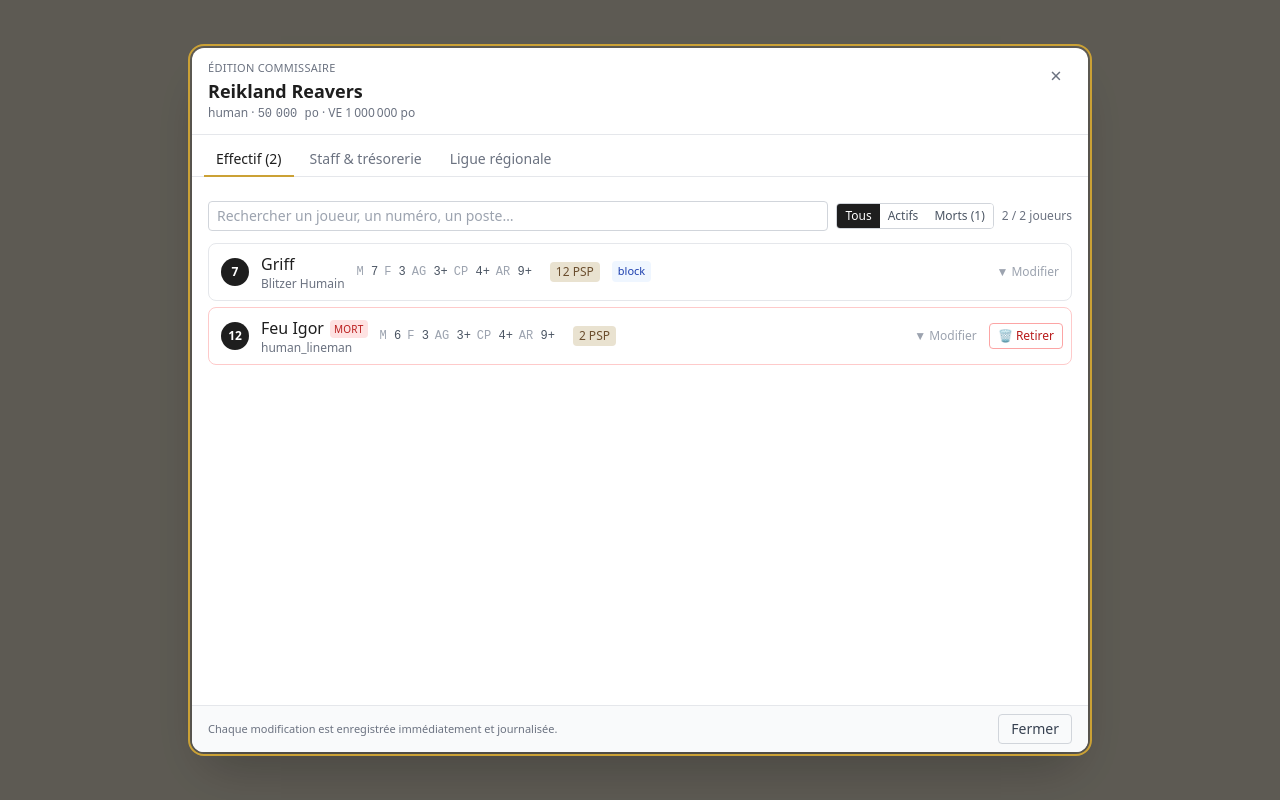
Scenario: CommissionerTeamEditor — dialogue et effectif › replie les contrôles d'un joueur tant qu'on ne le déplie pas
Expected: the list item with test id "player-edit-alive1" is shown, x1=208 y1=242 x2=1072 y2=300
Click the button with test id "player-toggle-alive1". click: (640, 272)
box: x1=217 y1=250 x2=1063 y2=294
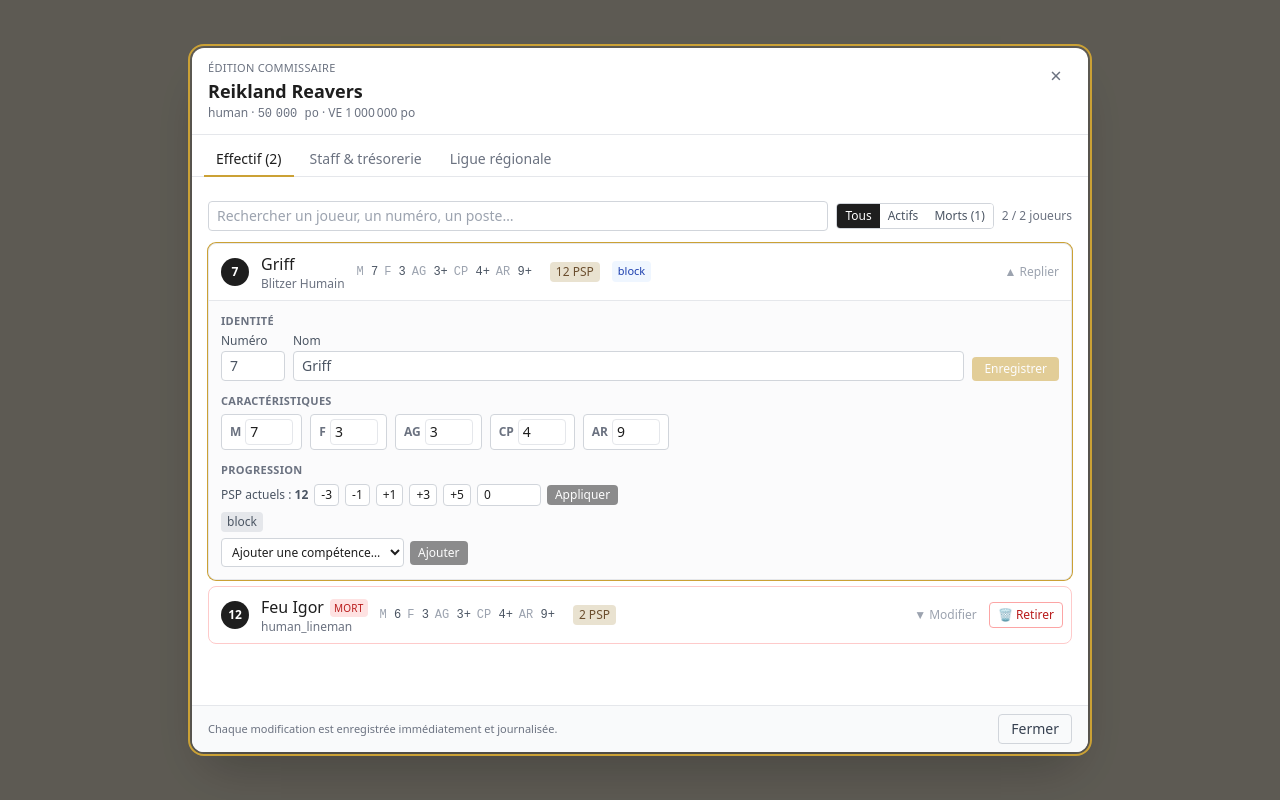
Result: the button with test id "spp-apply-alive1" is shown at x1=547 y1=485 x2=618 y2=505
Result: the field with test id "identity-name-alive1" is shown at x1=293 y1=351 x2=964 y2=381
